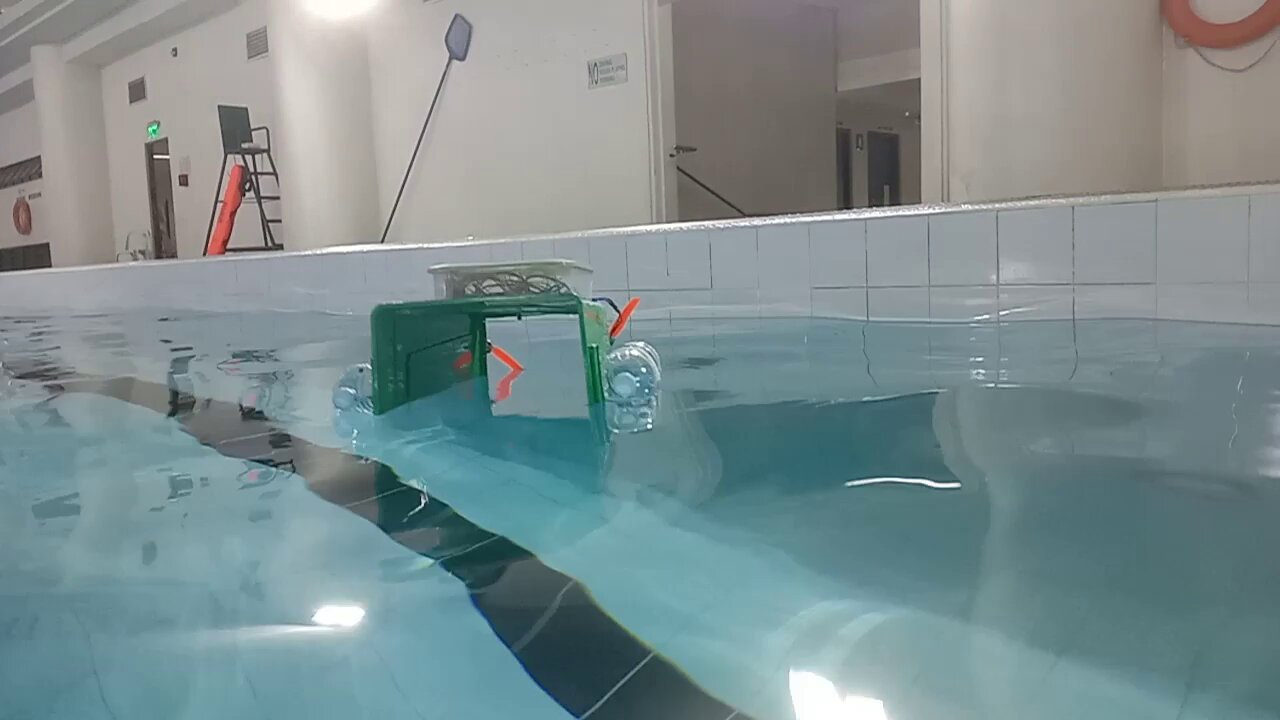drone: (331, 258, 662, 414)
